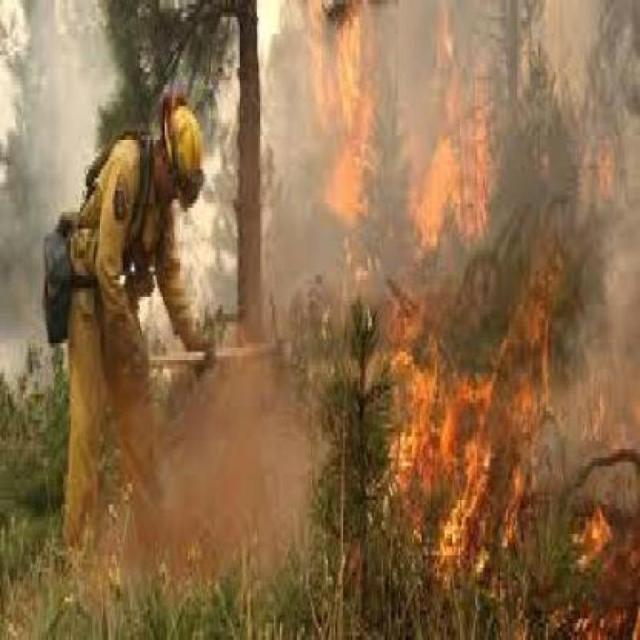Fire: (301, 0, 640, 640)
